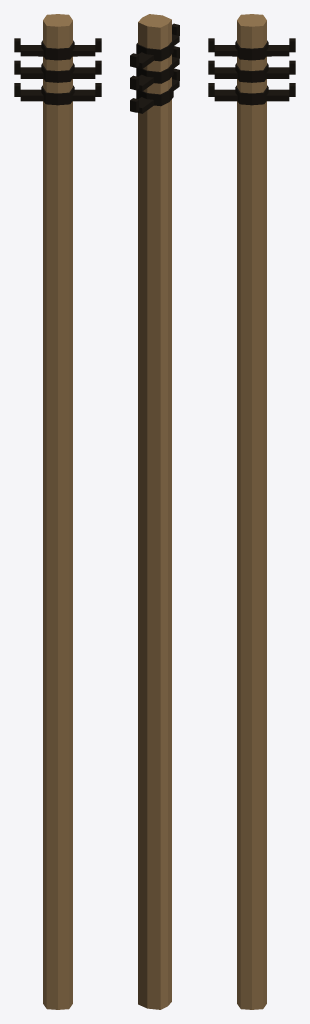
Rendered from SM_pole.fbx.
The picture shows the model from 3 angles, left to right: view 1: azimuth 90°, elevation 25°; view 2: azimuth 150°, elevation 25°; view 3: azimuth 270°, elevation 25°; orthographic projection.
Parts seen in each view (by area): view 1: Cube.075; view 2: Cube.075; view 3: Cube.075.
Boxes of the visible parts, box(x1,y1,x2,y2) form: Cube.075: box(14, 14, 101, 1009); Cube.075: box(130, 14, 179, 1009); Cube.075: box(208, 14, 295, 1009).
Bounding box in the file's own units: 54.77 × 1800 × 145.
